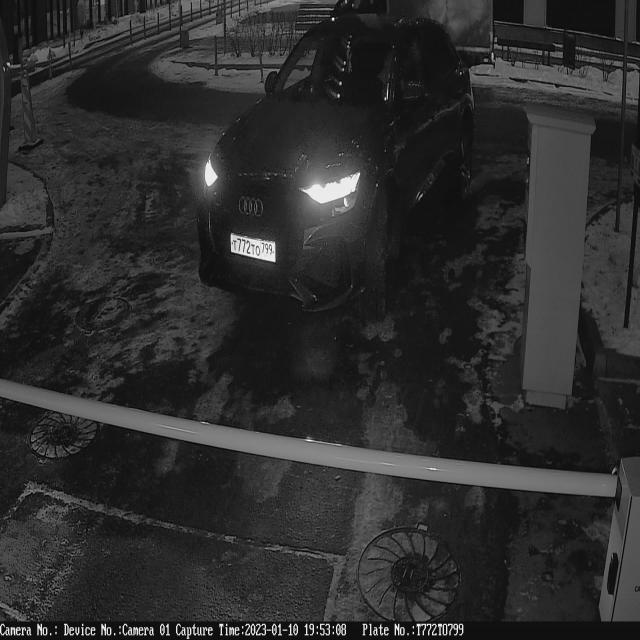car-plate-numbers: (229, 228, 278, 268)
